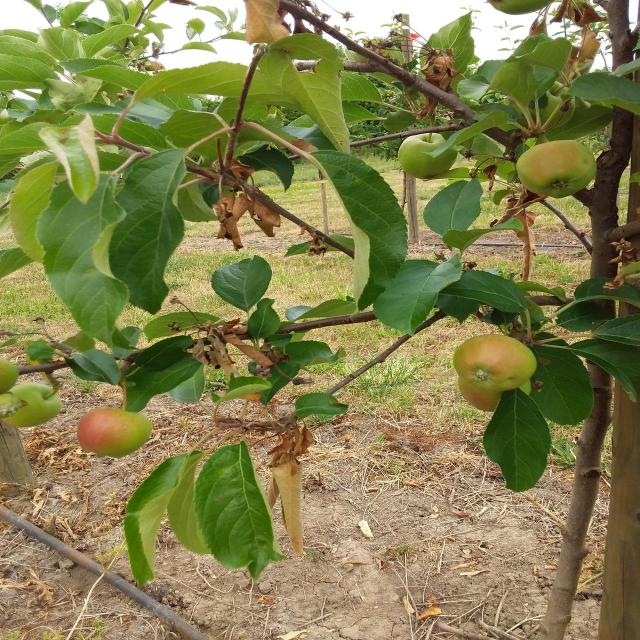-FireBlight-: (208, 139, 281, 241), (180, 301, 266, 374), (267, 414, 313, 546), (408, 38, 465, 110)
